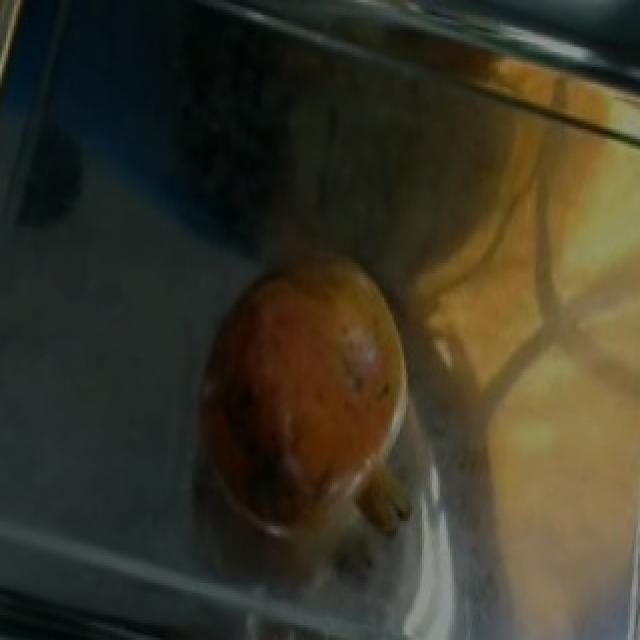fruit: (170, 226, 438, 498)
